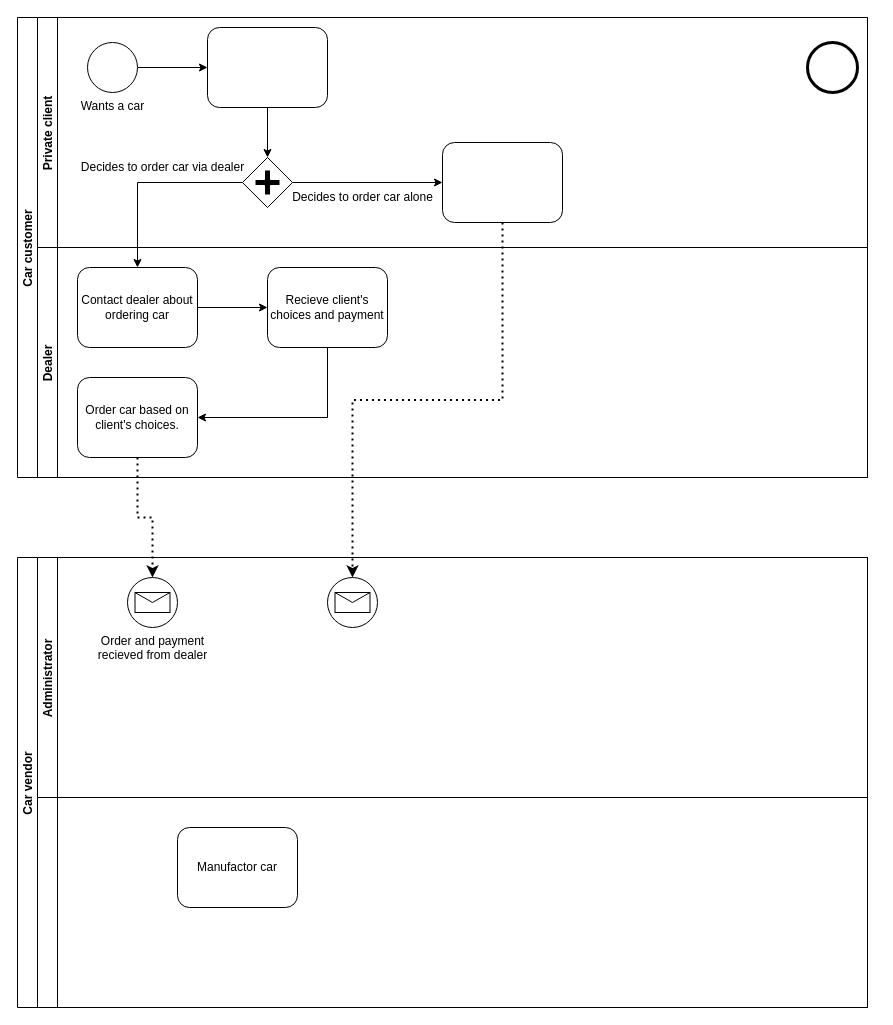
The diagram is 893 pixels wide and 1025 high, and some of its shapes have lost their labels. Each missing label, with the centre of its shape:
"Car Clerk" belongs at (x=452, y=902).
"Order and pay for car" belongs at (x=502, y=182).
"Order and payment recieved from private client" belongs at (x=352, y=602).
"Select car package" belongs at (x=267, y=67).
"Vehicle recieved" belongs at (x=832, y=67).
